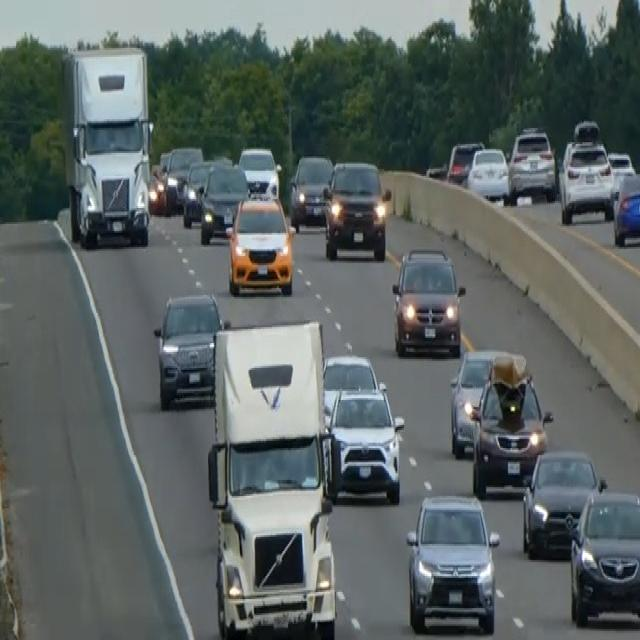car: (405, 491, 500, 633), (468, 350, 551, 498), (568, 487, 639, 628), (325, 381, 404, 503), (521, 446, 605, 558), (152, 288, 227, 409), (391, 244, 465, 358), (226, 192, 295, 297), (323, 158, 390, 262), (448, 347, 505, 457), (558, 137, 614, 222), (321, 350, 380, 425), (198, 162, 249, 244), (507, 125, 556, 202), (289, 151, 333, 231), (181, 156, 221, 226), (163, 144, 202, 212), (466, 144, 510, 203), (237, 144, 281, 199), (612, 169, 639, 247), (606, 148, 635, 212), (446, 139, 484, 185), (148, 164, 167, 214), (572, 116, 600, 144)
lorry: (206, 318, 339, 638), (60, 43, 154, 249)
